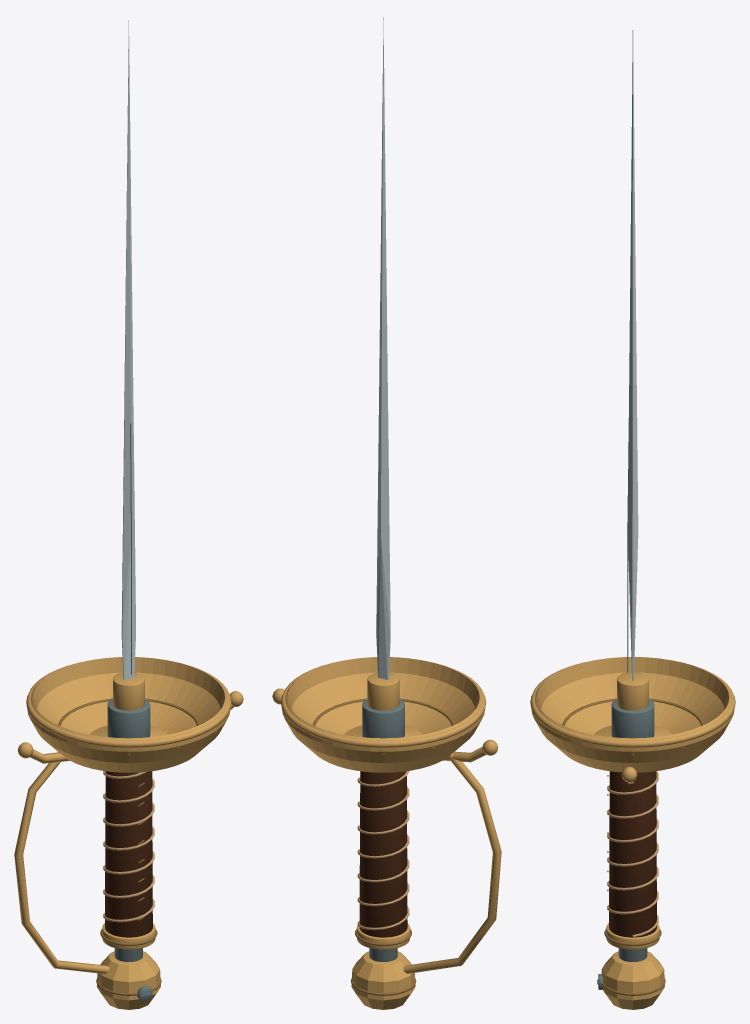
The model's file is sword.glb.
The picture shows the model from 3 angles, left to right: view 1: azimuth 30°, elevation 25°; view 2: azimuth 150°, elevation 25°; view 3: azimuth 270°, elevation 25°; orthographic projection.
Visible parts, largest first — view 1: Render_sword; view 2: Render_sword; view 3: Render_sword.
Boxes of the visible parts, x1,y1,x2,y2 form: Render_sword: (14, 20, 243, 1009); Render_sword: (272, 17, 501, 1009); Render_sword: (530, 30, 735, 1009).
Size of the model in its own units: 0.2944 by 1.23 by 0.2304.
Materials: 6 (1 with a texture image).
